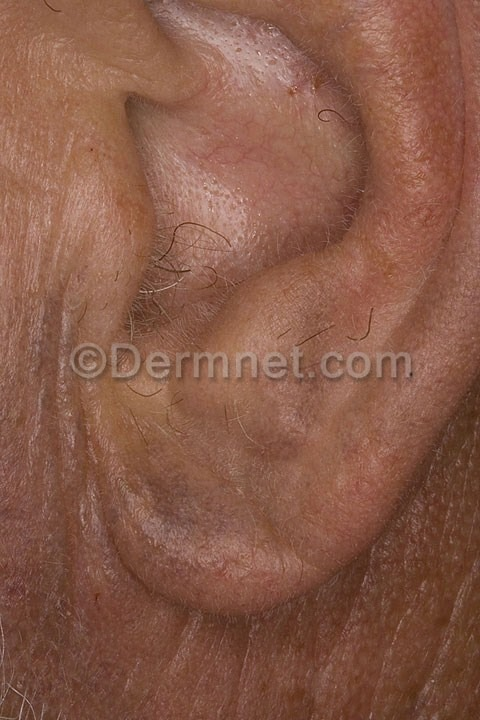Acne: (46, 393, 326, 609)
